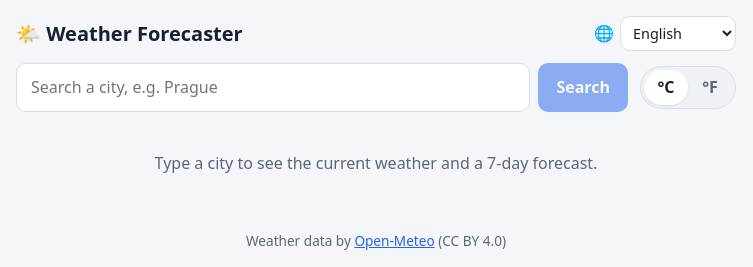
Scenario: SearchPage › accepts names in any script
This screenshot has width=753, height=267.
Type "Київ" into the search field with placeholder "Search a city, e.g. Prague" at (273, 88), box [16,63,530,112]
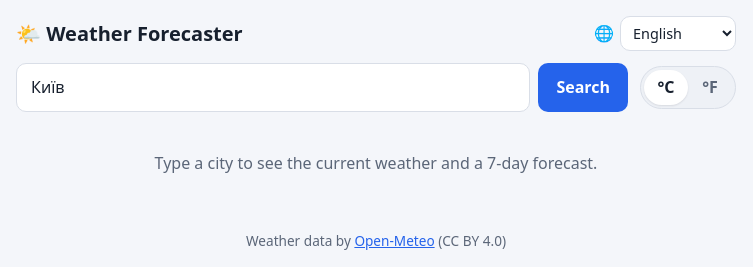
Expected: the submit button is enabled, [538,63,628,112]
